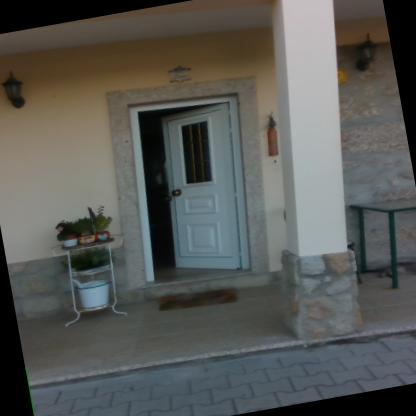semi: (105, 78, 277, 305)
